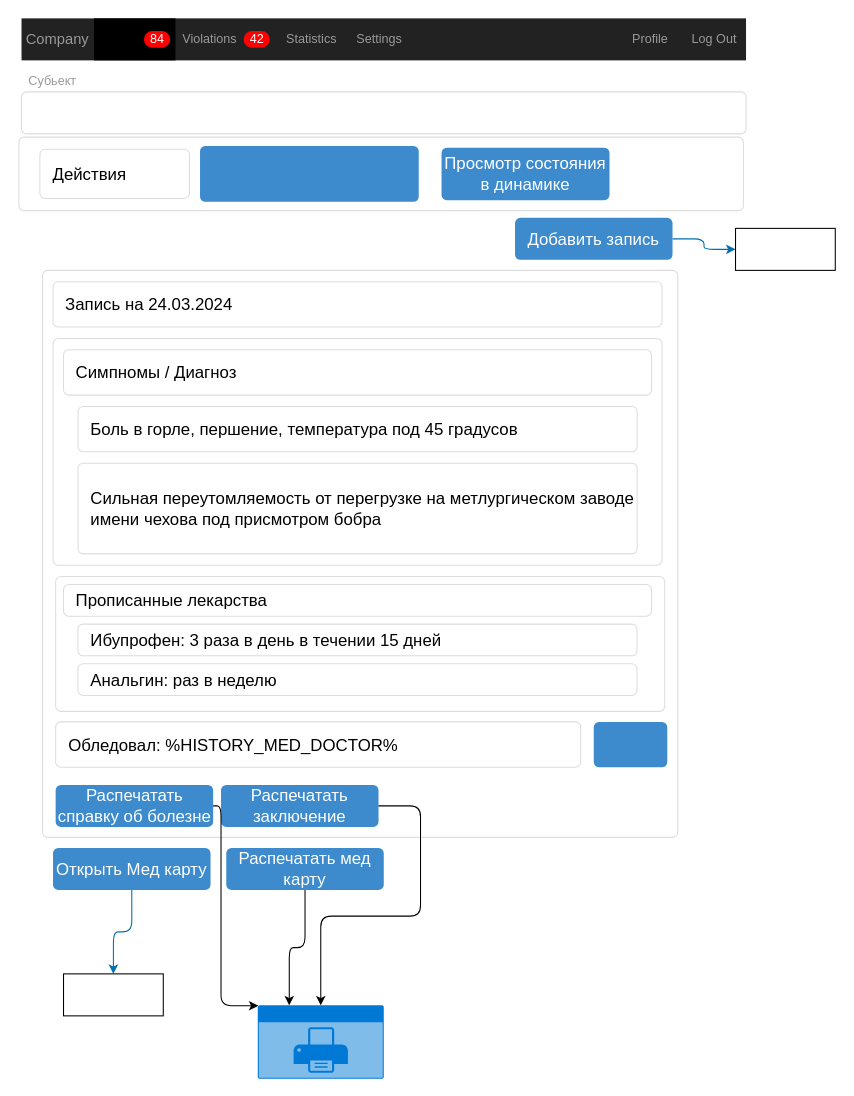
The diagram is 854 pixels wide and 1096 high, and some of its shapes have lost their labels. The centre of each missing label's shape, as x and y in pixels:
%CLIENT_FULLNAME%: [383,112]
Open: Frame - edit data: [784,248]
Open: Мед карта: [112,994]
People: [134,39]
Print: [320,1041]
View / Edit: [630,744]
Просмотр основной информации пациента: [309,173]
